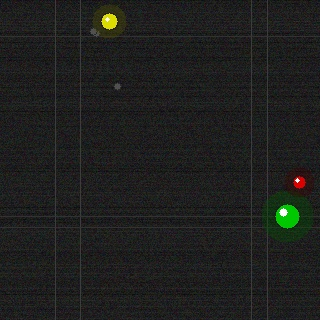green_normal: (273, 202, 301, 230)
red_fault: (291, 174, 307, 190)
yellow_warning: (99, 11, 119, 31)
